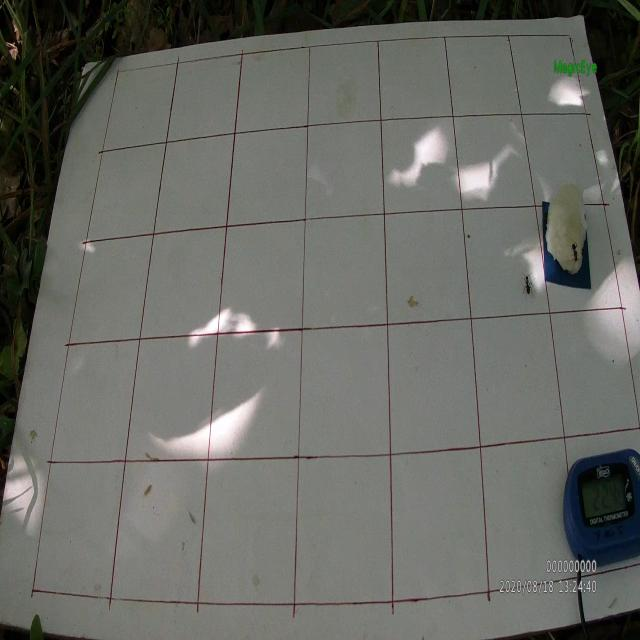Ant: (520, 270, 535, 298), (568, 237, 578, 263)
